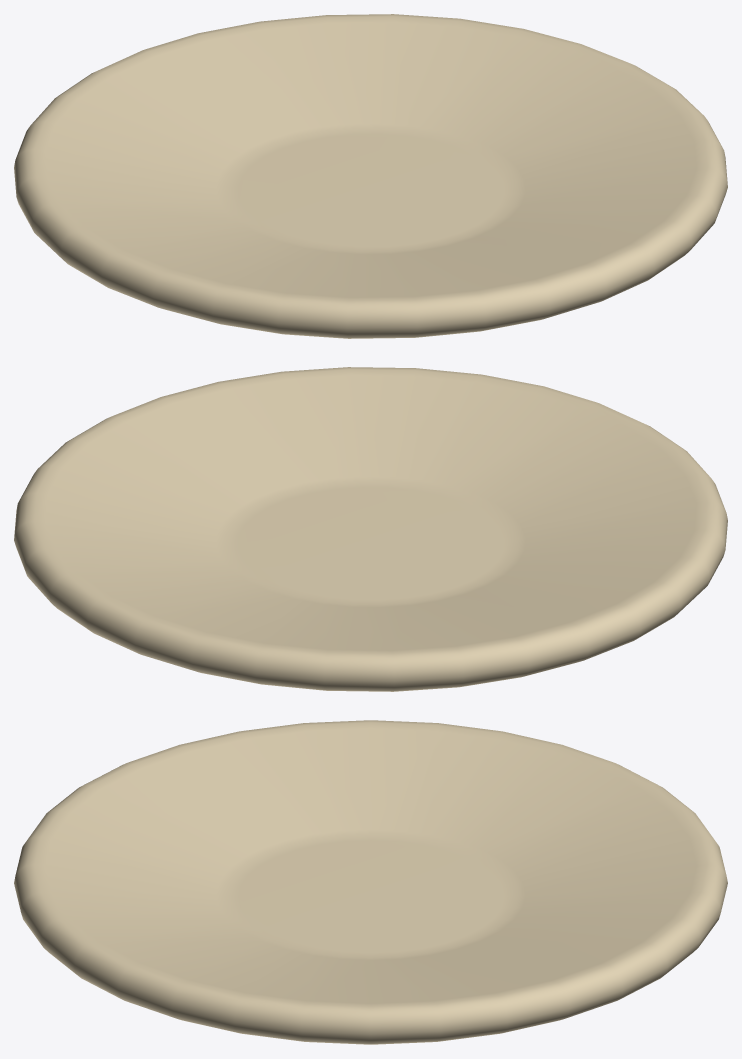
Rendered from SM_coffee_mug_plate_white.glb.
3 renders of one model, top to bottom at view 1: azimuth 30°, elevation 25°; view 2: azimuth 150°, elevation 25°; view 3: azimuth 270°, elevation 25°, orthographic.
Visible parts, largest first — view 1: SM_coffee_mug_plate_white; view 2: SM_coffee_mug_plate_white; view 3: SM_coffee_mug_plate_white.
Boxes of the visible parts, x1,y1,x2,y2 form: SM_coffee_mug_plate_white: (14, 14, 727, 338); SM_coffee_mug_plate_white: (14, 367, 727, 691); SM_coffee_mug_plate_white: (14, 720, 727, 1044).
Bounding box in the file's own units: 0.3209 × 0.0349 × 0.3209.
1 material, 1 textured.
